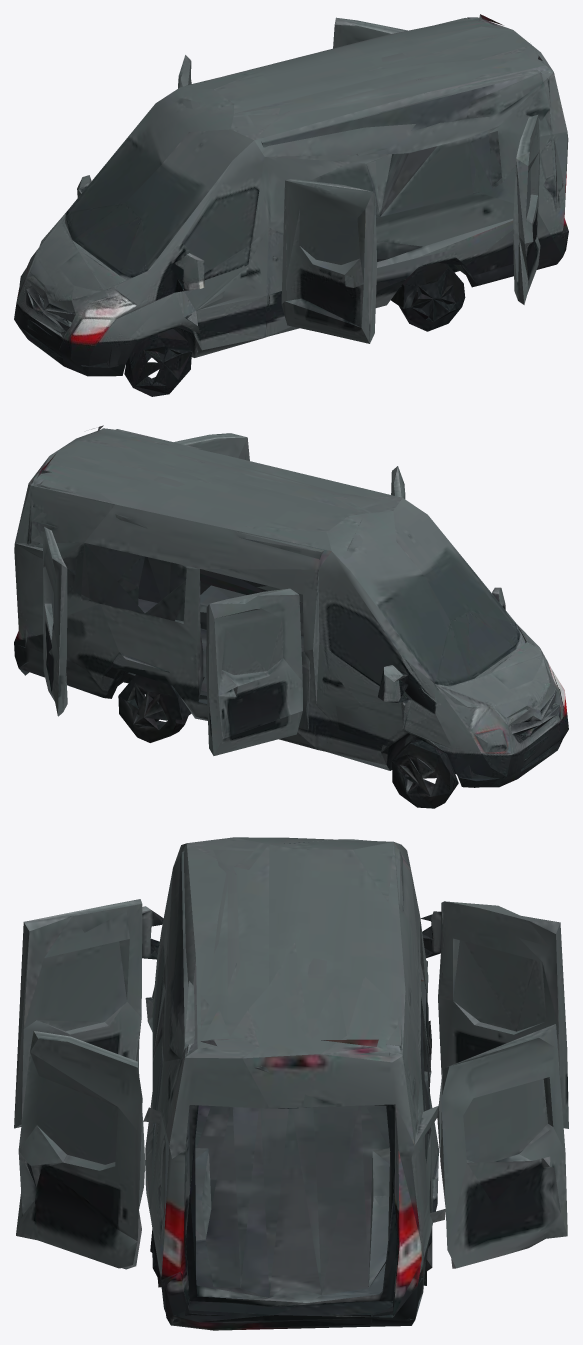
Rendered from Vehicle_Van_Grey.glb.
The picture shows the model from 3 angles, top to bottom: view 1: azimuth 30°, elevation 25°; view 2: azimuth 150°, elevation 25°; view 3: azimuth 270°, elevation 25°; orthographic projection. The views are drawn at different scales.
Bounding box in the file's own units: 1.9 × 0.871 × 1.3.
1 material, 1 textured.
